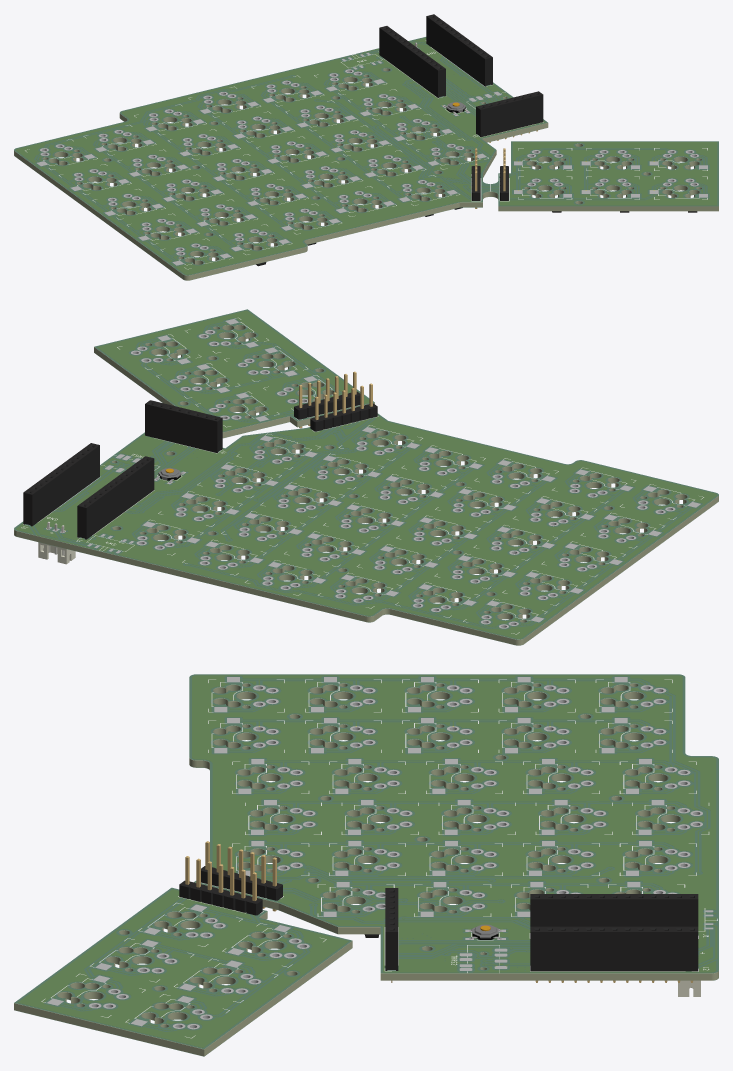
Rendered from board.glb.
3 views of the same model, one above another, from view 1: azimuth 30°, elevation 25°; view 2: azimuth 150°, elevation 25°; view 3: azimuth 270°, elevation 25° (orthographic). The views are drawn at different scales.
Parts seen in each view (by area): view 1: board_soldermask, board_copper, board_PCB, board_pad, PinSocket_1x13_P2.54mm_Vertical (×2), board_silkscreen, PinSocket_1x08_P2.54mm_Vertical; view 2: board_soldermask (×2), board_copper, board_PCB, board_pad, PinSocket_1x13_P2.54mm_Vertical (×2), board_silkscreen, PinSocket_1x08_P2.54mm_Vertical, PinHeader_1x07_P254mm_Vertical (×2), JST_B3B_PH_K; view 3: board_soldermask, board_copper, board_PCB, board_pad, PinSocket_1x13_P2.54mm_Vertical (×2), PinHeader_1x07_P254mm_Vertical (×2), board_silkscreen, PinSocket_1x08_P2.54mm_Vertical.
Boxes of the visible parts, x1,y1,x2,y2 form: board_soldermask: (14,37,718,275); board_copper: (16,38,716,274); board_PCB: (14,41,718,280); board_pad: (37,47,707,265); PinSocket_1x13_P2.54mm_Vertical (×2): (379,14,492,97); board_silkscreen: (25,40,707,269); PinSocket_1x08_P2.54mm_Vertical: (476,91,543,142); board_soldermask (×2): (14,309,718,645); board_copper: (17,311,715,638); board_PCB: (14,310,718,645); board_pad: (46,319,700,628); PinSocket_1x13_P2.54mm_Vertical (×2): (23,443,154,539); board_silkscreen: (21,317,703,634); PinSocket_1x08_P2.54mm_Vertical: (145,400,222,452); PinHeader_1x07_P254mm_Vertical (×2): (294,371,377,431); JST_B3B_PH_K: (38,521,75,564); board_soldermask: (14,674,718,1049); board_copper: (18,676,716,1047); board_PCB: (14,675,718,1056); board_pad: (47,677,713,1029); PinSocket_1x13_P2.54mm_Vertical (×2): (530,894,698,982); PinHeader_1x07_P254mm_Vertical (×2): (179,841,282,915); board_silkscreen: (41,679,717,1038); PinSocket_1x08_P2.54mm_Vertical: (385,888,398,982).
Bounding box in the file's own units: 0.1745 × 0.0162 × 0.1386.
